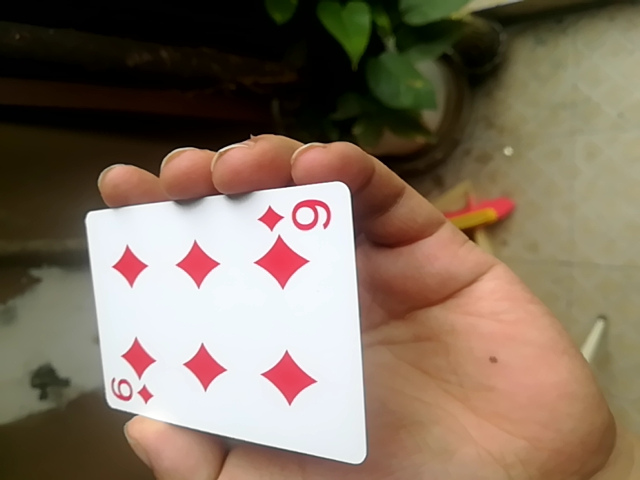fk 6: (82, 180, 365, 463)
